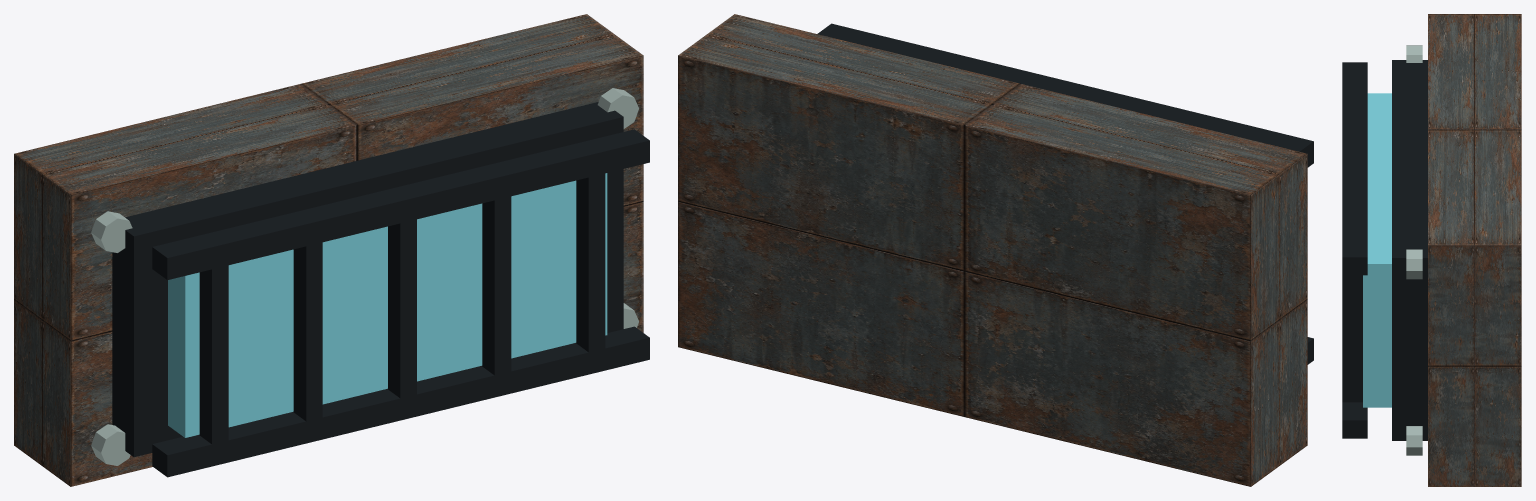
File: WallBulkhead.obj
3 renders of one model, left to right at view 1: azimuth 30°, elevation 25°; view 2: azimuth 150°, elevation 25°; view 3: azimuth 270°, elevation 25°, orthographic. The views are drawn at different scales.
Visible parts, largest first — view 1: WallBulkhead; view 2: WallBulkhead; view 3: WallBulkhead.
Boxes of the visible parts, x1,y1,x2,y2 form: WallBulkhead: (14, 14, 649, 486); WallBulkhead: (678, 14, 1313, 486); WallBulkhead: (1342, 14, 1521, 486).
Bounding box in the file's own units: 0.76 × 0.37 × 0.2485.
4 materials, 1 textured.
